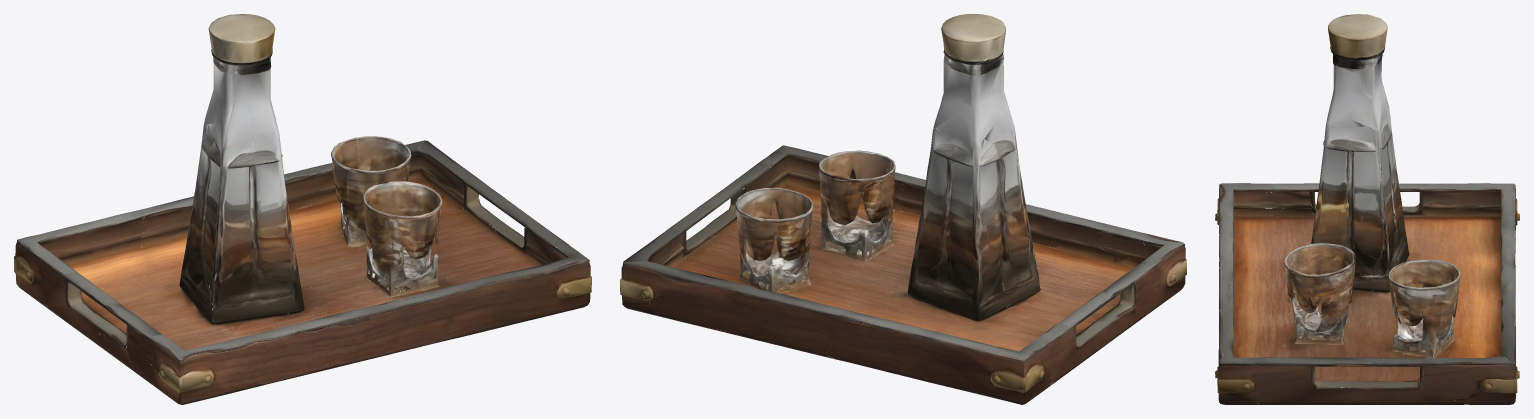
The model's file is water-service.glb.
3 renders of one model, left to right at view 1: azimuth 30°, elevation 25°; view 2: azimuth 150°, elevation 25°; view 3: azimuth 270°, elevation 25°, orthographic. The views are drawn at different scales.
Parts seen in each view (by area): view 1: tripo_node_f38a9dba-6c1a-4a76-9d42-bb89f6da3de2; view 2: tripo_node_f38a9dba-6c1a-4a76-9d42-bb89f6da3de2; view 3: tripo_node_f38a9dba-6c1a-4a76-9d42-bb89f6da3de2.
Part boxes in pixels (x1=…): tripo_node_f38a9dba-6c1a-4a76-9d42-bb89f6da3de2: x1=14, y1=14, x2=591, y2=404; tripo_node_f38a9dba-6c1a-4a76-9d42-bb89f6da3de2: x1=620, y1=14, x2=1186, y2=404; tripo_node_f38a9dba-6c1a-4a76-9d42-bb89f6da3de2: x1=1215, y1=14, x2=1519, y2=404.
Bounding box in the file's own units: 0.4997 × 0.3379 × 0.3498.
1 material, 1 textured.
